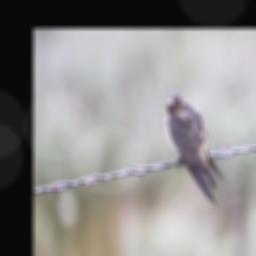Swallow: (164, 90, 226, 207)
